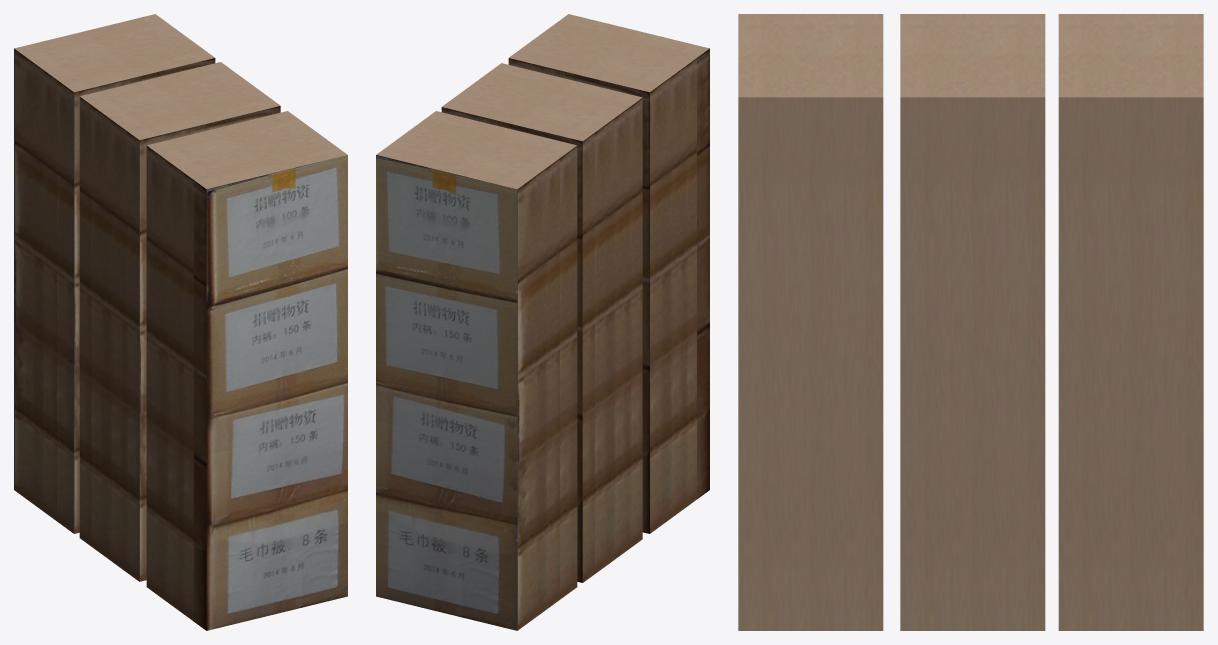
Rendered from neiku.FBX.
The picture shows the model from 3 angles, left to right: view 1: azimuth 30°, elevation 25°; view 2: azimuth 150°, elevation 25°; view 3: azimuth 270°, elevation 25°; orthographic projection. The views are drawn at different scales.
Visible parts, largest first — view 1: 对象108; view 2: 对象108; view 3: 对象108.
Part boxes in pixels (x1,y1,x2,y2): 对象108: [14, 14, 347, 630]; 对象108: [376, 14, 709, 630]; 对象108: [738, 14, 1203, 630].
Size of the model in its own units: 0.3925 by 0.926 by 1.17.
